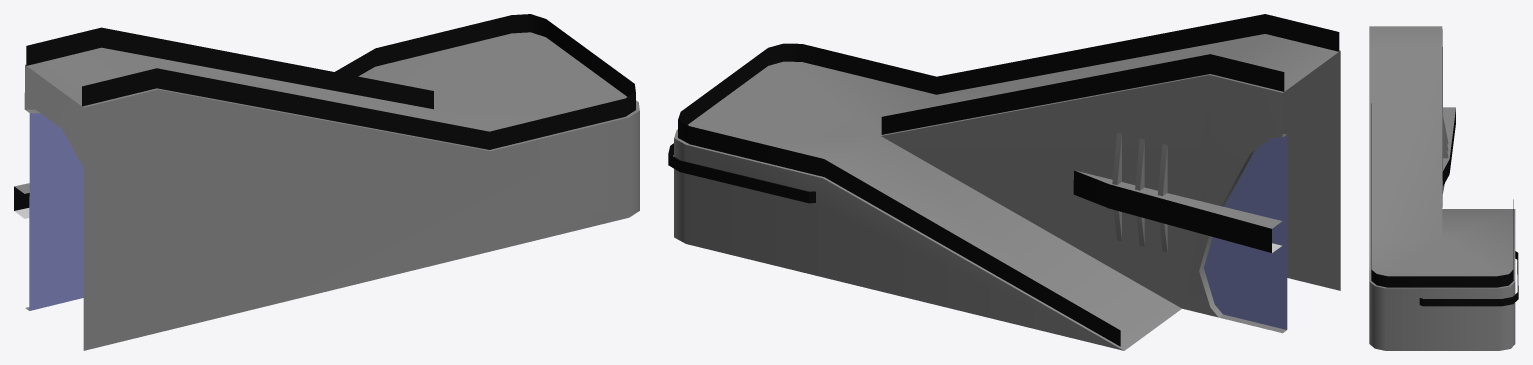
The model's file is W_M_maze_BelvedereStair_A_L3.fbx.
3 views of the same model, side by side, from view 1: azimuth 30°, elevation 25°; view 2: azimuth 150°, elevation 25°; view 3: azimuth 270°, elevation 25° (orthographic). The views are drawn at different scales.
Parts seen in each view (by area): view 1: W_M_maze_BelvedereStair_A_L3; view 2: W_M_maze_BelvedereStair_A_L3; view 3: W_M_maze_BelvedereStair_A_L3.
Boxes of the visible parts, x1,y1,x2,y2 form: W_M_maze_BelvedereStair_A_L3: [14, 14, 639, 350]; W_M_maze_BelvedereStair_A_L3: [668, 14, 1340, 350]; W_M_maze_BelvedereStair_A_L3: [1369, 26, 1518, 350].
Bounding box in the file's own units: 32.87 × 11.89 × 14.44.
